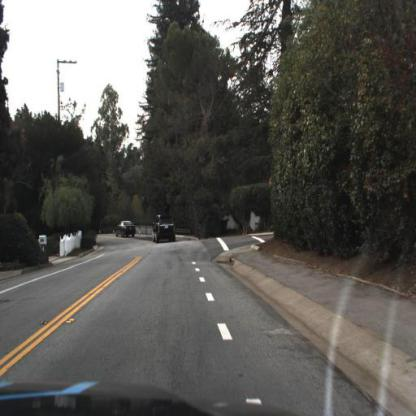car: (154, 213, 176, 246), (115, 221, 137, 239)
